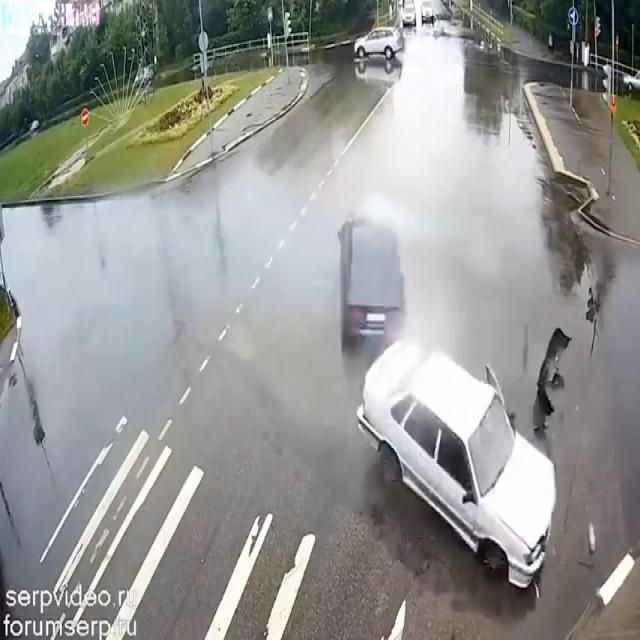Accident: (322, 150, 558, 598)
